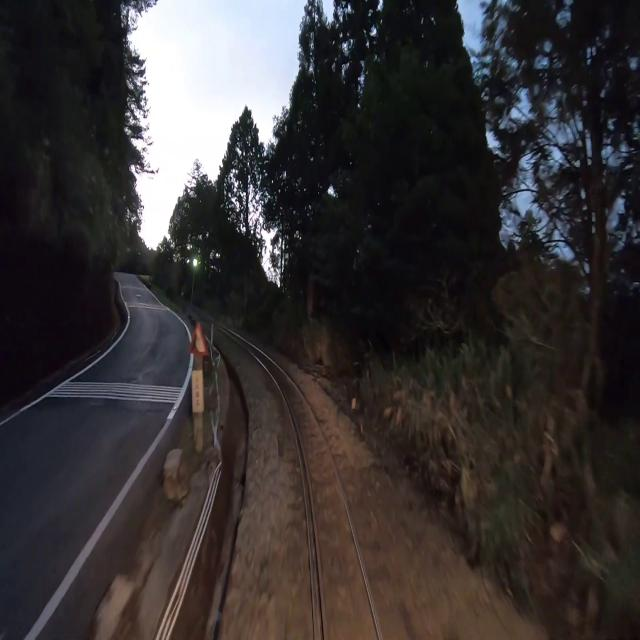rail-track: (247, 344, 378, 639), (313, 553, 322, 639)
